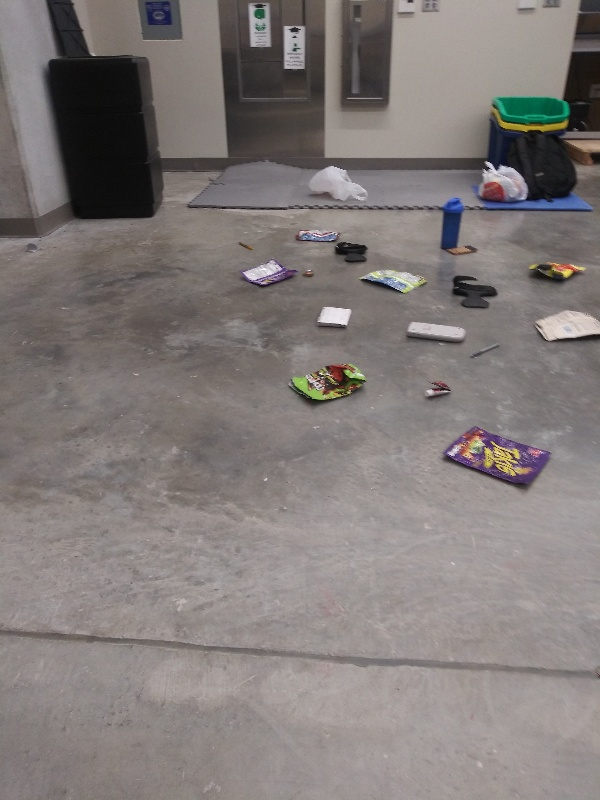bag: (442, 425, 551, 487), (289, 361, 371, 402), (530, 311, 600, 344), (358, 266, 429, 295), (236, 256, 296, 288), (527, 257, 592, 283), (289, 224, 342, 243)
